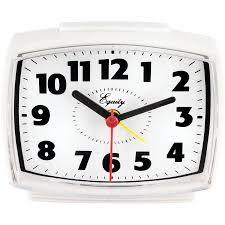alarm_clock: (8, 21, 218, 200)
